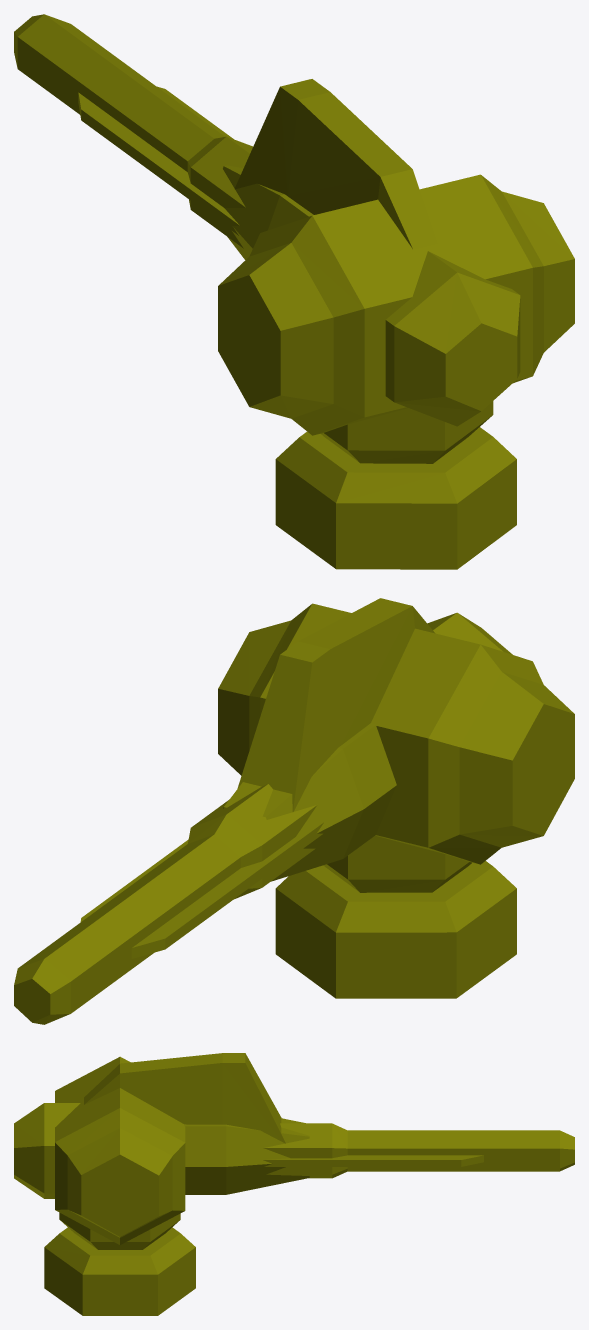
File: gun.FBX
3 renders of one model, top to bottom at view 1: azimuth 30°, elevation 25°; view 2: azimuth 150°, elevation 25°; view 3: azimuth 270°, elevation 25°, orthographic. The views are drawn at different scales.
Parts seen in each view (by area): view 1: VIFS001, VIFS003, VIFS002; view 2: VIFS001, VIFS002, VIFS003; view 3: VIFS001, VIFS002, VIFS003.
Part boxes in pixels (x1=…): VIFS001: x1=14, y1=14, x2=574, y2=569; VIFS003: x1=249, y1=175, x2=543, y2=435; VIFS002: x1=78, y1=86, x2=313, y2=259; VIFS001: x1=14, y1=598, x2=574, y2=1024; VIFS002: x1=14, y1=723, x2=396, y2=1022; VIFS003: x1=249, y1=604, x2=543, y2=864; VIFS001: x1=14, y1=1053, x2=574, y2=1315; VIFS002: x1=184, y1=1118, x2=483, y2=1194; VIFS003: x1=55, y1=1108, x2=185, y2=1244.
Bounding box in the file's own units: 0.42 × 0.503 × 1.11.
